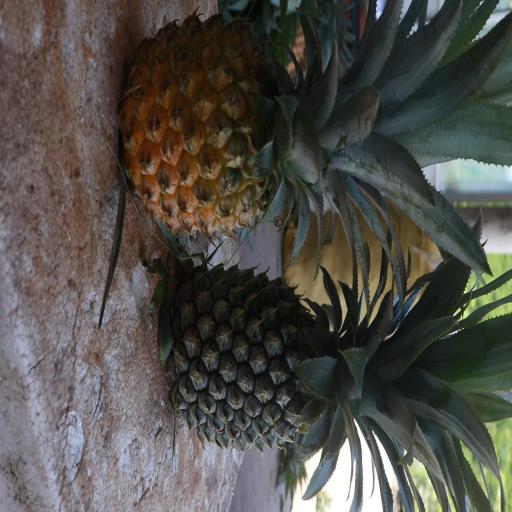Pineapple - v8 v1: (126, 27, 470, 221)
